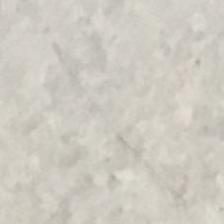Non_Crack: (26, 28, 218, 221)
